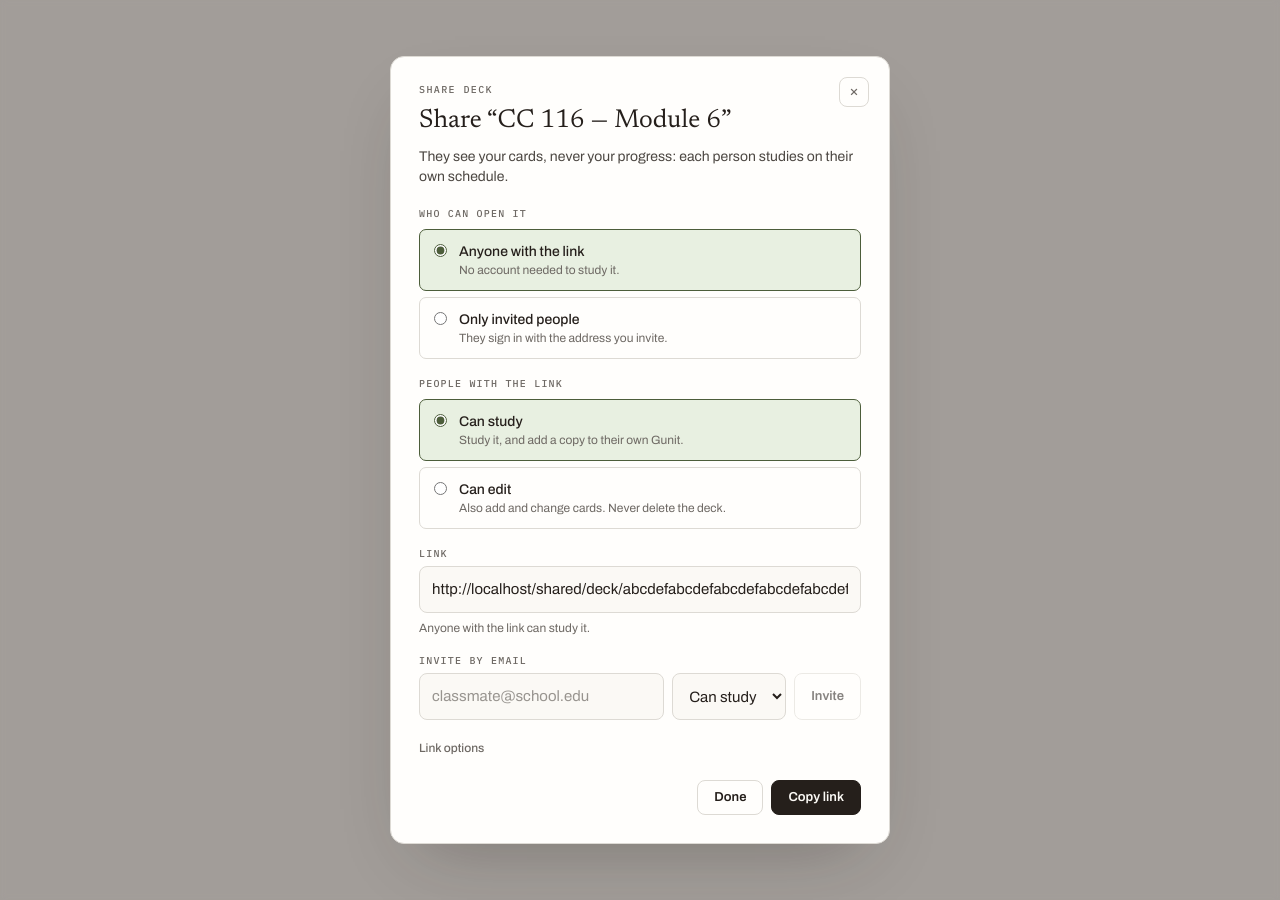
Test case: sharing a deck › stops sharing and resets the link from the link options
Expected: the field showing "/shared/deck/" is shown, [419, 566, 861, 613]
Click the button "Link options": (452, 748) [419, 740, 484, 756]
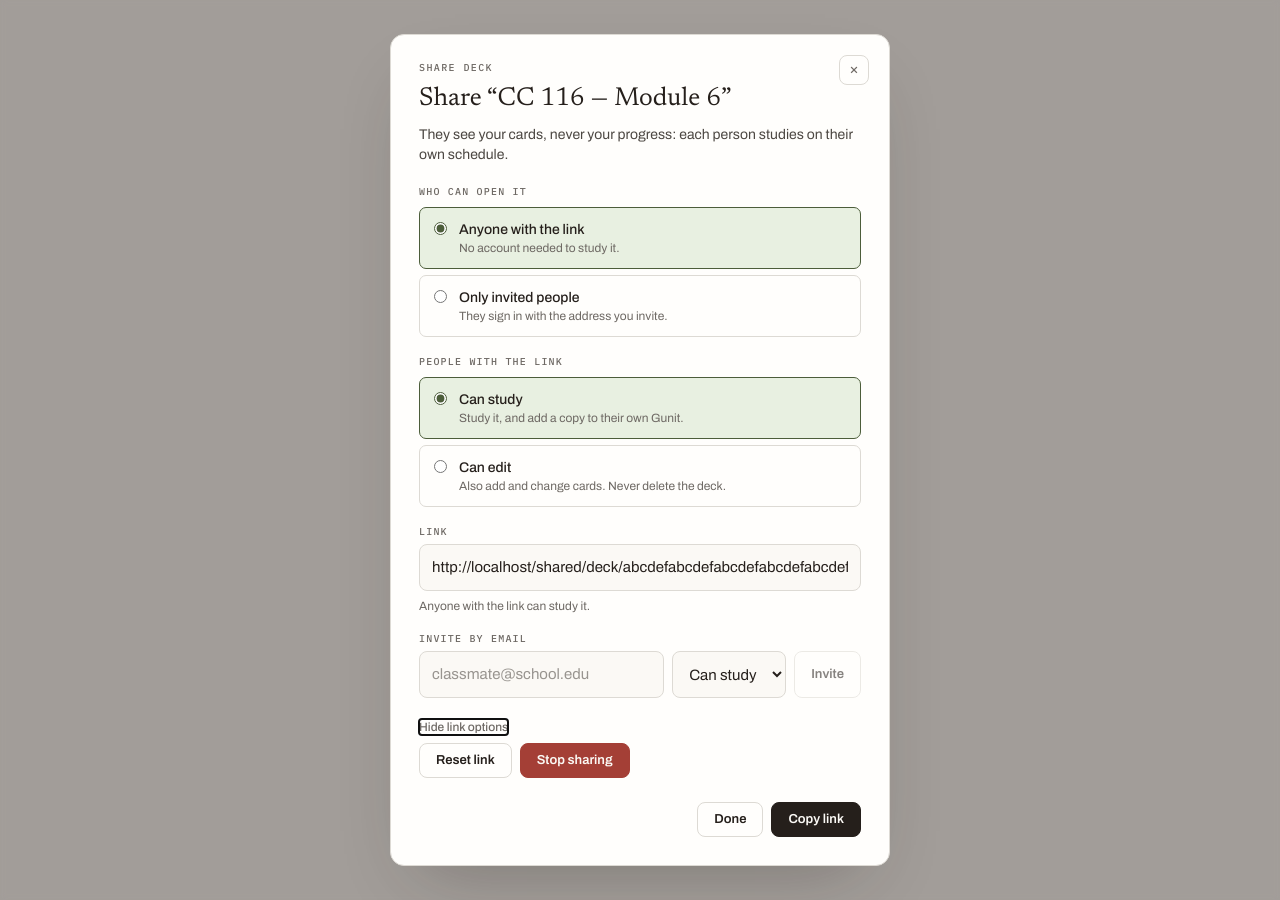
Click the button "Reset link": (465, 760) [419, 743, 512, 778]
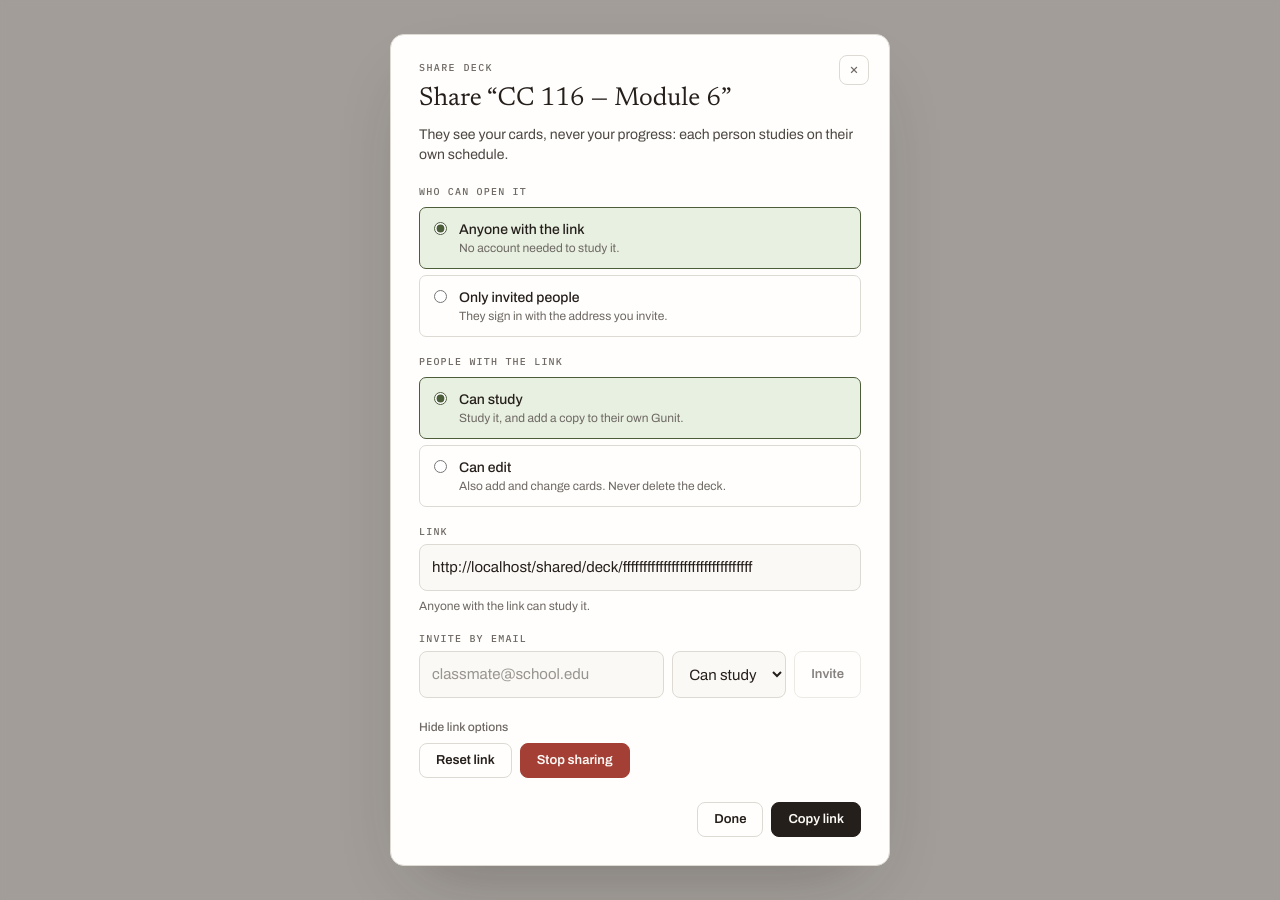
Click the button "Stop sharing": (575, 760) [520, 743, 630, 778]
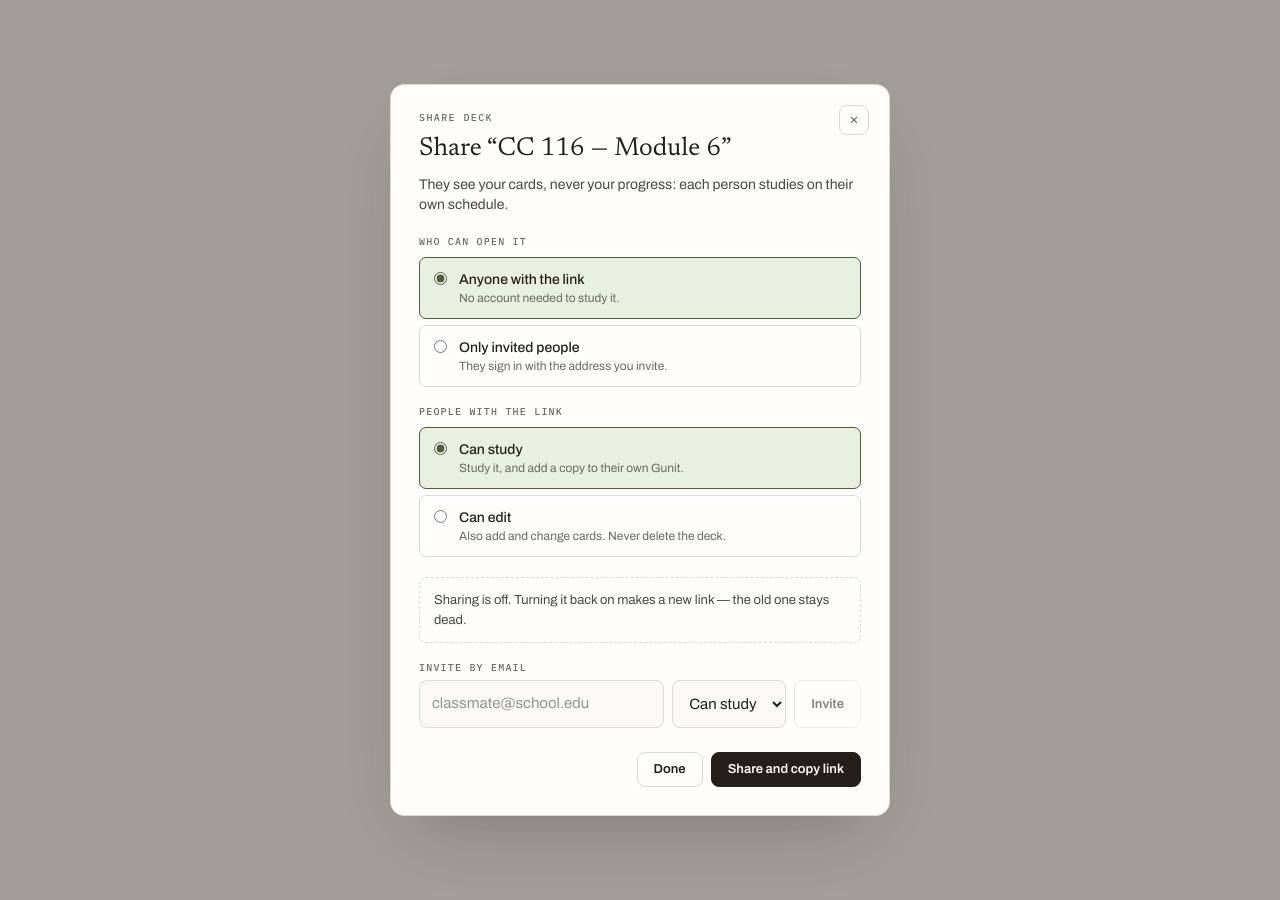
Now the text "Sharing is off" is shown, box [434, 593, 829, 627]
